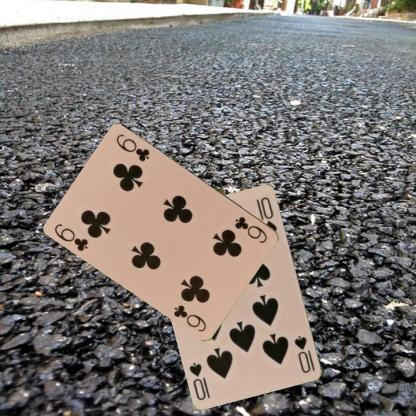10s: (292, 333, 316, 374)
6c: (232, 214, 270, 245), (52, 221, 90, 252)
